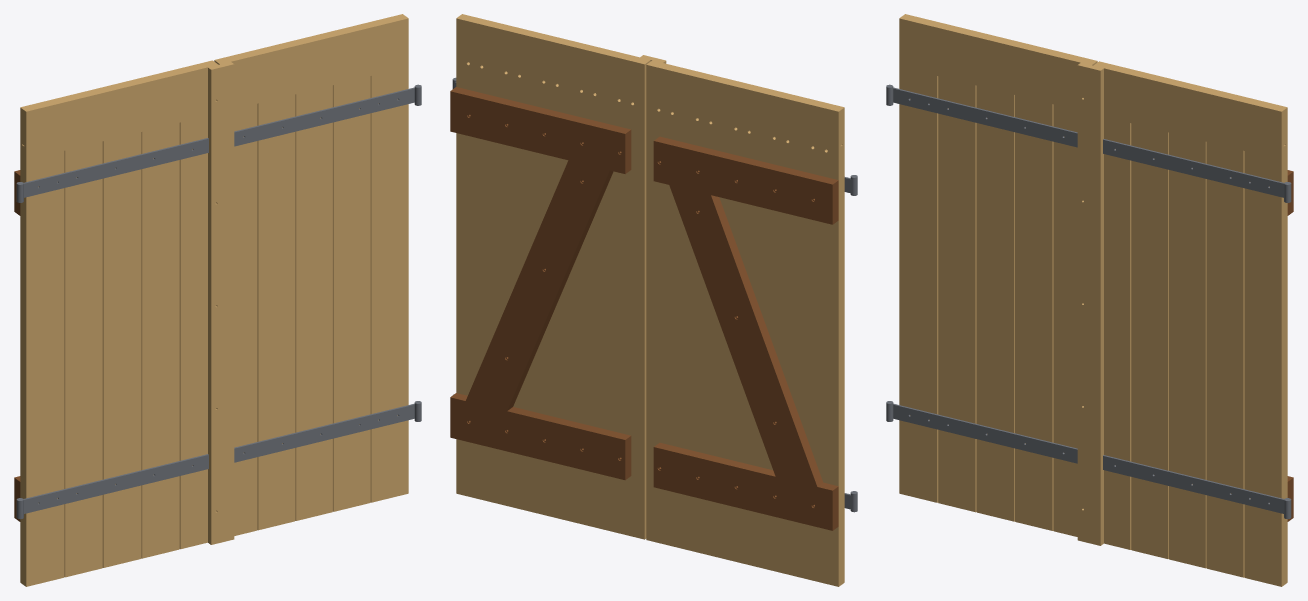
Rendered from volets-battants.d77e1411e8.glb.
3 renders of one model, left to right at view 1: azimuth 30°, elevation 25°; view 2: azimuth 150°, elevation 25°; view 3: azimuth 330°, elevation 25°, orthographic.
Visible parts, largest first — view 1: Volet_Gauche_Lame1, Volet_Gauche_Lame3, Volet_Gauche_Lame2, Volet_Droit_Lame1, Volet_Droit_Lame4, Volet_Gauche_Lame4, Volet_Droit_Lame2, Volet_Droit_Lame3, Volet_Gauche_CouvreJoint, Volet_Gauche_Lame5, Volet_Gauche_TraverseHaute, Volet_Droit_TraverseHaute (+5 smaller); view 2: Volet_Gauche_Lame1, Volet_Droit_Lame5, Volet_Gauche_Echarpe, Volet_Gauche_Lame5, Volet_Droit_Echarpe, Volet_Droit_Lame1, Volet_Gauche_TraverseHaute, Volet_Droit_TraverseHaute, Volet_Droit_Lame4, Volet_Gauche_Lame4, Volet_Gauche_Lame2, Volet_Droit_Lame2 (+6 smaller); view 3: Volet_Droit_Lame1, Volet_Gauche_Lame1, Volet_Gauche_Lame4, Volet_Droit_Lame2, Volet_Gauche_Lame2, Volet_Gauche_Lame3, Volet_Droit_Lame3, Volet_Droit_Lame4, Volet_Gauche_CouvreJoint, Volet_Droit_Lame5, Volet_Droit_TraverseHaute, Volet_Gauche_Lame5 (+5 smaller).
Part boxes in pixels (x1,y1,x2,y2): Volet_Gauche_Lame1: (20, 145, 64, 586); Volet_Gauche_Lame3: (102, 132, 141, 567); Volet_Gauche_Lame2: (64, 141, 102, 577); Volet_Droit_Lame1: (370, 67, 408, 502); Volet_Droit_Lame4: (257, 94, 295, 530); Volet_Gauche_Lame4: (141, 122, 179, 558); Volet_Droit_Lame2: (333, 76, 370, 511); Volet_Droit_Lame3: (295, 85, 332, 520); Volet_Gauche_CouvreJoint: (208, 62, 234, 544); Volet_Gauche_Lame5: (179, 115, 207, 549); Volet_Gauche_TraverseHaute: (20, 60, 218, 159); Volet_Droit_TraverseHaute: (214, 14, 408, 108); Volet_Gauche_Lame1: (800, 145, 844, 586); Volet_Droit_Lame5: (607, 99, 646, 539); Volet_Gauche_Echarpe: (669, 179, 823, 492); Volet_Gauche_Lame5: (646, 109, 684, 549); Volet_Droit_Echarpe: (465, 160, 613, 411); Volet_Droit_Lame1: (456, 62, 493, 502); Volet_Gauche_TraverseHaute: (646, 60, 844, 159); Volet_Droit_TraverseHaute: (456, 14, 650, 112); Volet_Droit_Lame4: (569, 90, 606, 530); Volet_Gauche_Lame4: (684, 118, 723, 558); Volet_Gauche_Lame2: (761, 137, 800, 577); Volet_Droit_Lame2: (494, 71, 531, 511); Volet_Droit_Lame1: (1244, 145, 1287, 586); Volet_Gauche_Lame1: (899, 67, 938, 502); Volet_Gauche_Lame4: (1015, 95, 1053, 530); Volet_Droit_Lame2: (1206, 142, 1244, 577); Volet_Gauche_Lame2: (938, 76, 976, 512); Volet_Gauche_Lame3: (976, 85, 1014, 521); Volet_Droit_Lame3: (1169, 132, 1206, 568); Volet_Droit_Lame4: (1131, 123, 1168, 558); Volet_Gauche_CouvreJoint: (1077, 63, 1103, 545); Volet_Droit_Lame5: (1104, 116, 1131, 549); Volet_Droit_TraverseHaute: (1093, 61, 1287, 159); Volet_Gauche_Lame5: (1053, 104, 1077, 536).
Size of the model in its own units: 1.05 by 1.18 by 0.07.
